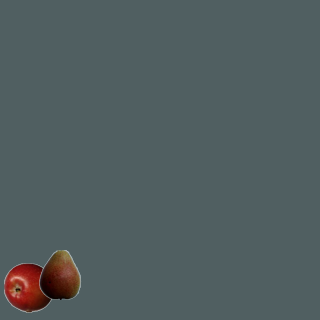Apple Braeburn: (3, 262, 53, 312)
Pear Forelle: (34, 249, 84, 299)
